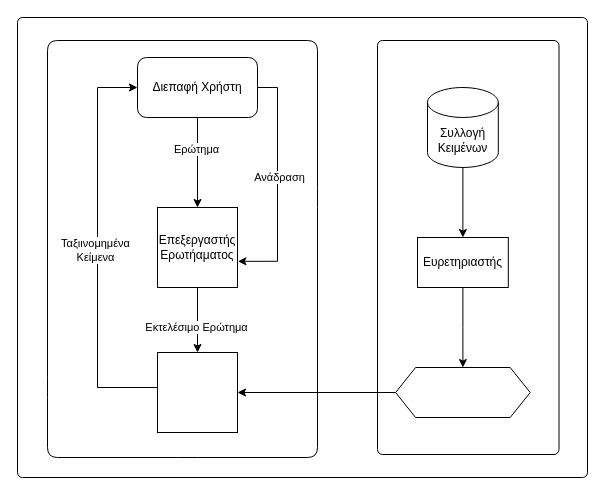
Some shapes in this 605 by 495 pixel diagram are drawn without their labels. Here are the shapes that lost their labels. From the top down, the box of each, then its label:
(156, 352, 238, 432): Ανάκτηση & Κατάταξη
(395, 366, 530, 418): Αντεστραμμένο Ευρετήριο
